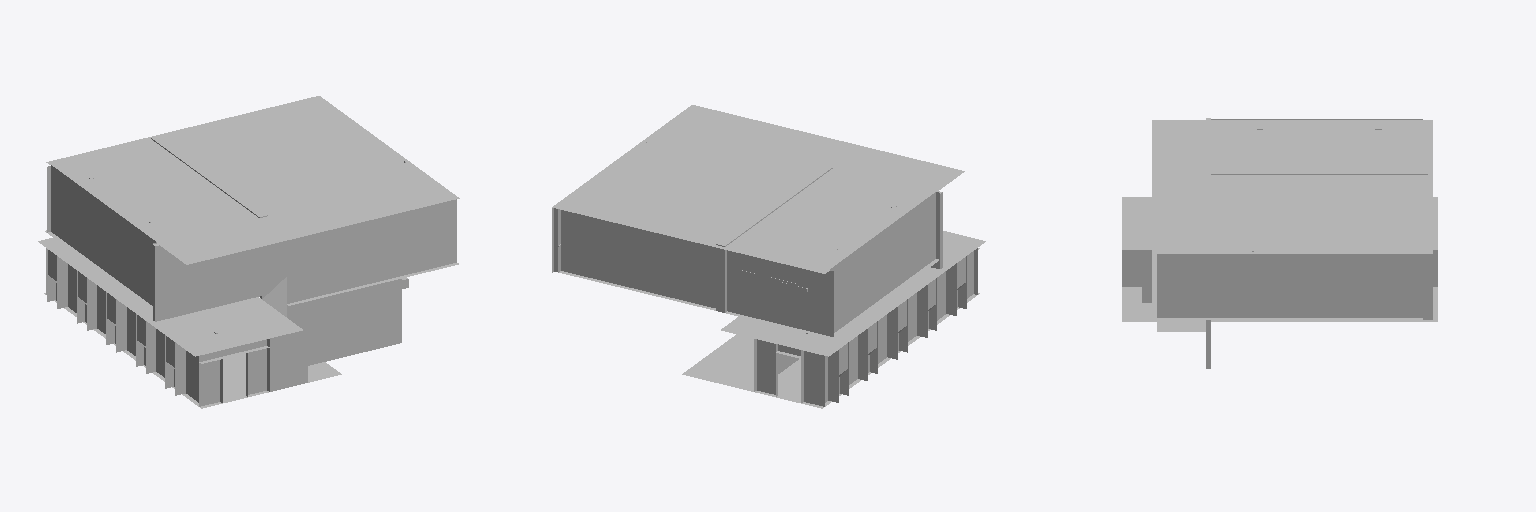
File: LC_room2_sl.obj
3 renders of one model, left to right at view 1: azimuth 30°, elevation 25°; view 2: azimuth 150°, elevation 25°; view 3: azimuth 270°, elevation 25°, orthographic.
Parts seen in each view (by area): view 1: grp1, grp13, grp17, grp2; view 2: grp1, grp13, grp17, grp2, grp8; view 3: grp1, grp13, grp2, grp17.
Boxes of the visible parts, <box> form: grp1: <box>38,96,459,356</box>; grp13: <box>47,119,458,360</box>; grp17: <box>45,248,307,406</box>; grp2: <box>44,279,408,408</box>; grp1: <box>552,105,985,356</box>; grp13: <box>554,127,942,336</box>; grp17: <box>552,208,979,408</box>; grp2: <box>682,294,976,408</box>; grp8: <box>558,127,829,322</box>; grp1: <box>1122,120,1437,319</box>; grp13: <box>1142,118,1427,368</box>; grp2: <box>1122,287,1437,331</box>; grp17: <box>1122,200,1437,319</box>.
Size of the model in its own units: 2096 by 1024 by 2048.